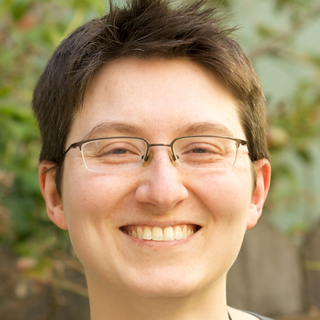eye: (93, 142, 143, 164), (178, 142, 226, 163)
